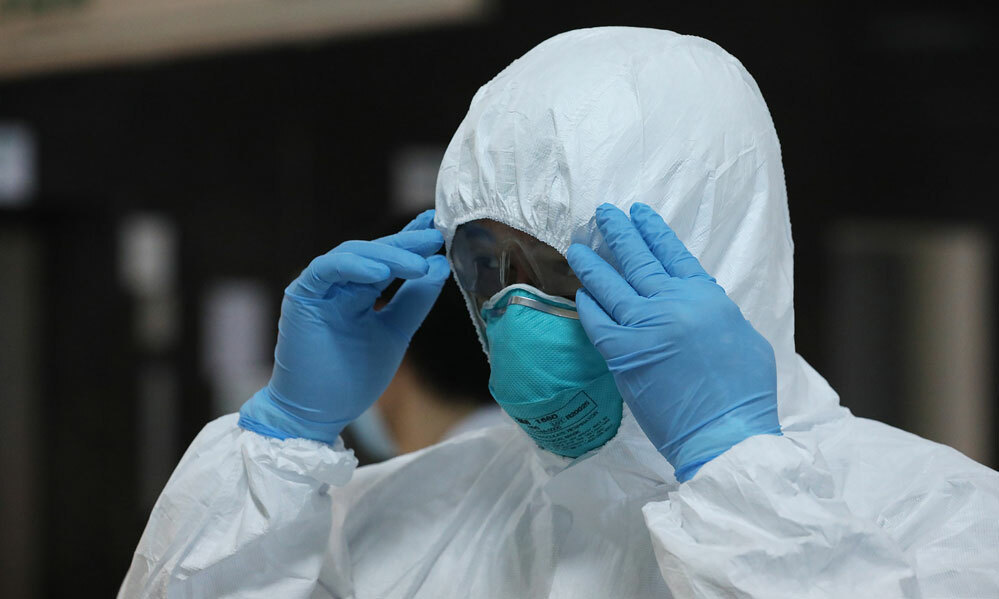Coverall: (115, 29, 997, 594)
Gloves: (568, 204, 782, 487), (239, 210, 452, 446)
Goggles: (447, 223, 589, 300)
with_mask: (456, 210, 629, 457)
